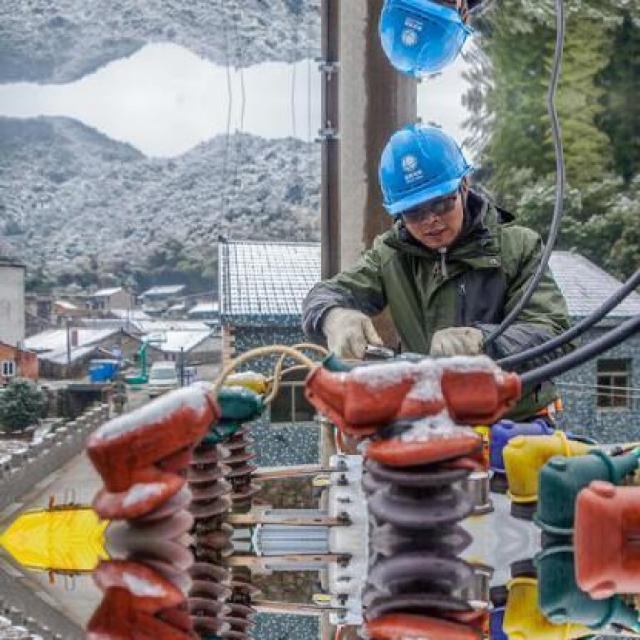helmet: (368, 123, 484, 219)
